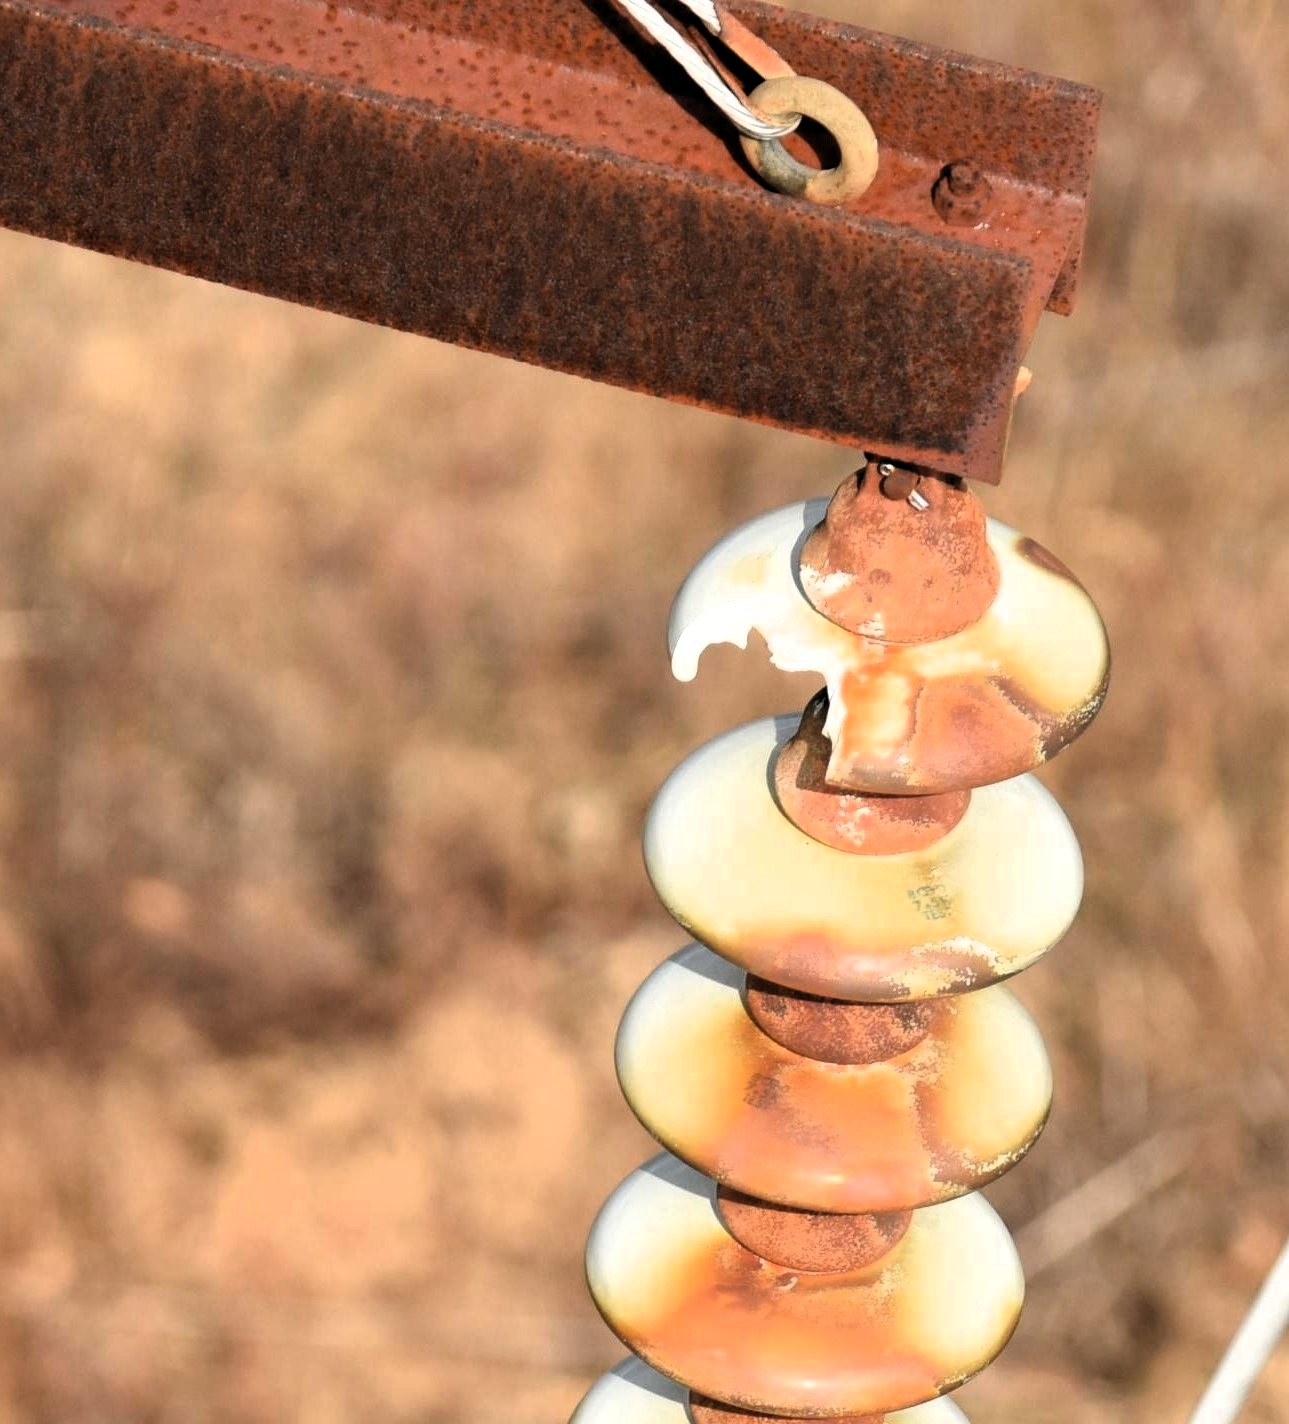insulator breakage: (658, 489, 1112, 795)
